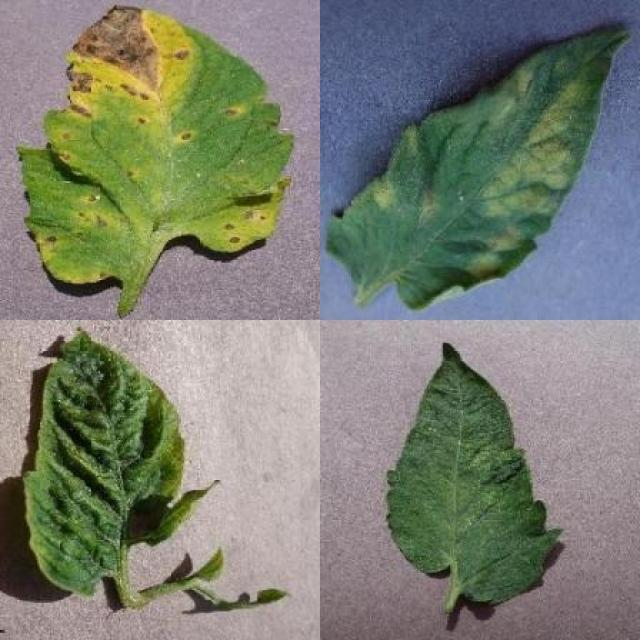Leaf Mold: (326, 21, 633, 310)
Septoria: (18, 6, 296, 286)
Spider Mites: (387, 344, 564, 602)
Yellow Leaf Curl Virus: (24, 332, 199, 594)
